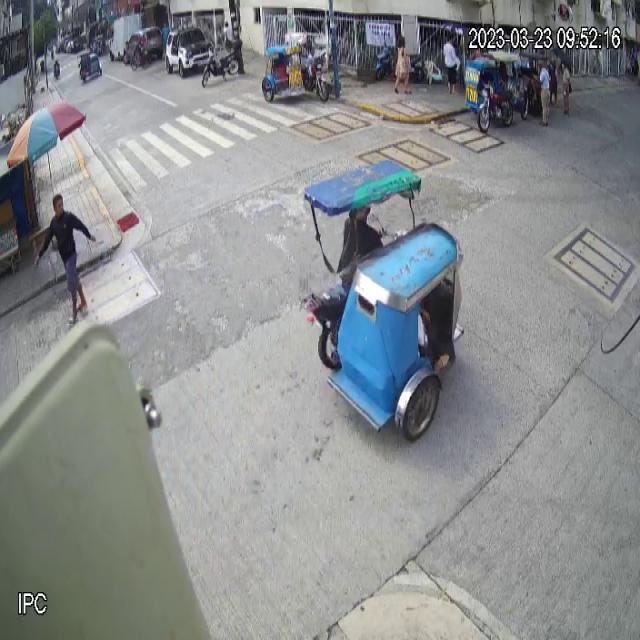Tricycle: (301, 154, 466, 447), (261, 31, 330, 103), (464, 52, 520, 134)
